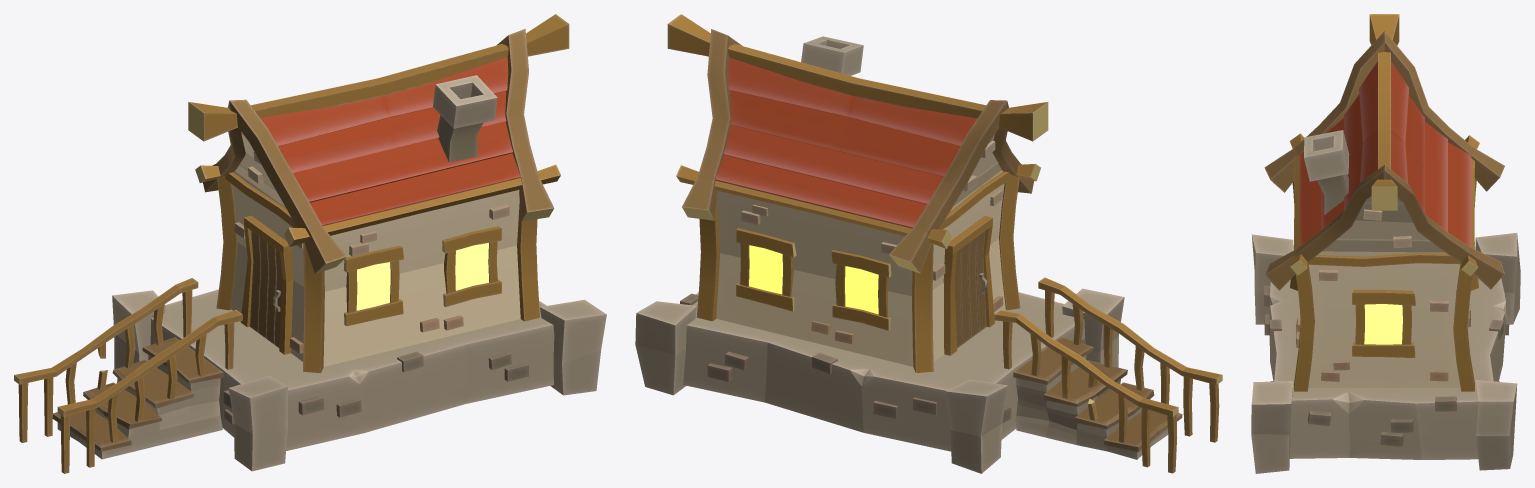
The model's file is house6.glb.
The picture shows the model from 3 angles, left to right: view 1: azimuth 30°, elevation 25°; view 2: azimuth 150°, elevation 25°; view 3: azimuth 270°, elevation 25°; orthographic projection. The views are drawn at different scales.
Parts seen in each view (by area): view 1: Roof (×2), Foundation (×3), Walls, Window (×2), Railing, Stairs, Chimney, Door, Wall; view 2: Roof (×2), Foundation (×3), Walls, Window (×2), Railing, Stairs, Door, Chimney, Wall; view 3: Roof (×2), Foundation (×3), Walls, Window (×2), Chimney, Wall.
Boxes of the visible parts, x1,y1,x2,y2 form: Roof (×2): (188, 14, 569, 373); Foundation (×3): (112, 289, 606, 471); Walls: (231, 185, 520, 366); Window (×2): (240, 215, 501, 354); Railing: (14, 278, 242, 473); Stairs: (52, 337, 223, 459); Chimney: (433, 75, 497, 162); Door: (250, 231, 282, 347); Wall: (234, 151, 509, 353); Roof (×2): (667, 14, 1048, 372); Foundation (×3): (635, 288, 1124, 473); Walls: (716, 183, 1005, 366); Window (×2): (736, 215, 994, 355); Railing: (994, 277, 1222, 473); Stairs: (1013, 337, 1182, 459); Door: (954, 231, 986, 347); Chimney: (801, 36, 863, 75); Wall: (741, 140, 1003, 344); Roof (×2): (1264, 14, 1504, 391); Foundation (×3): (1251, 233, 1520, 473); Walls: (1308, 263, 1460, 387); Window (×2): (1300, 289, 1468, 357); Chimney: (1304, 130, 1349, 214); Wall: (1296, 209, 1471, 381).
Size of the model in its own units: 8.44 by 4.87 by 3.92.
1 material, 1 textured.
